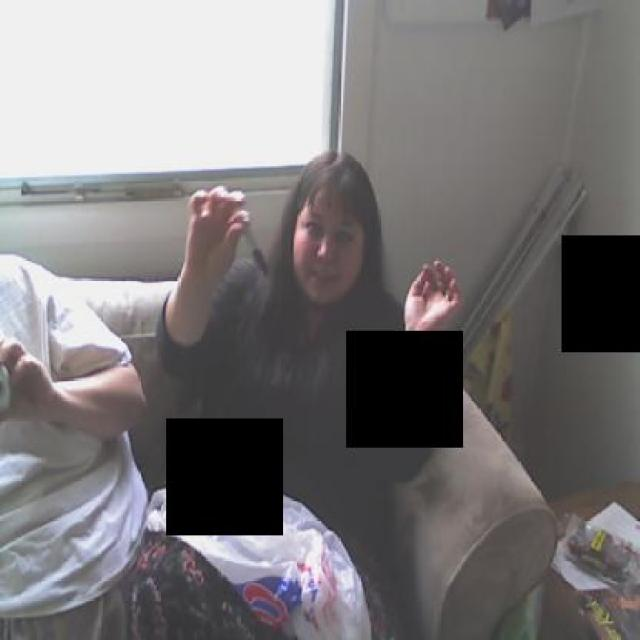plastic bag: (143, 482, 374, 638), (554, 514, 638, 598)
